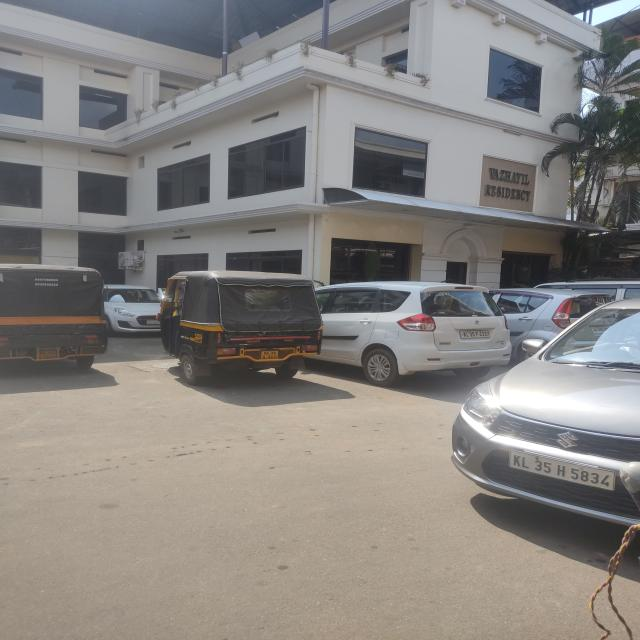Number_Plate_Detected: (506, 448, 616, 492), (460, 329, 492, 339), (36, 348, 59, 361), (590, 323, 612, 335), (261, 350, 279, 361), (147, 320, 161, 324)
